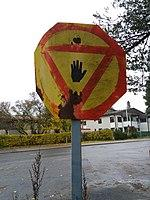Stop: (33, 15, 128, 126)
